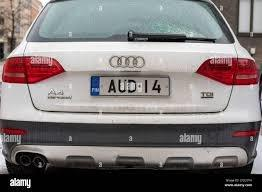license-plates: (91, 77, 170, 96)
